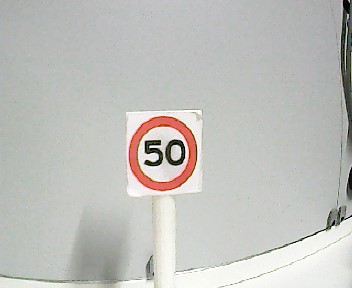50-bord: (128, 116, 198, 191)
